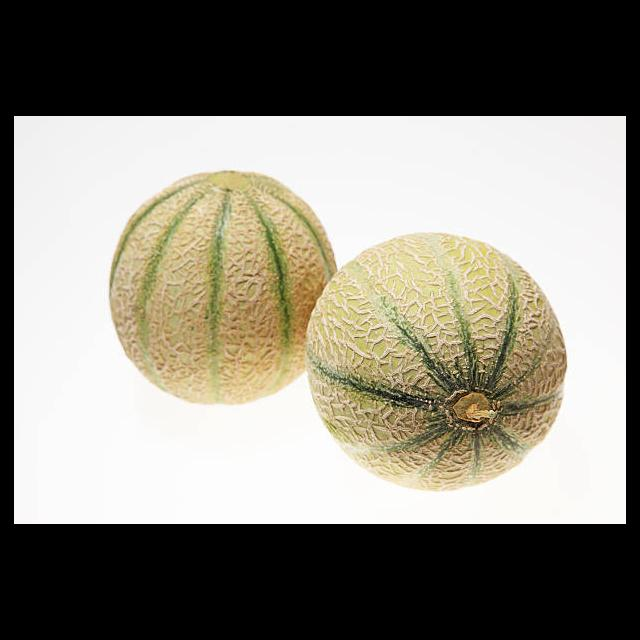Hami Melon: (306, 229, 567, 493), (110, 169, 336, 404)
